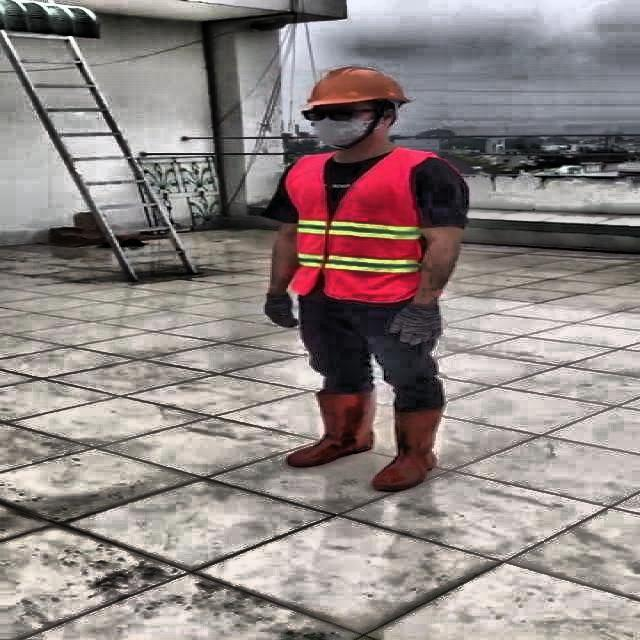safety_helmet: (303, 61, 413, 112)
safety_jacket: (279, 150, 434, 302)
